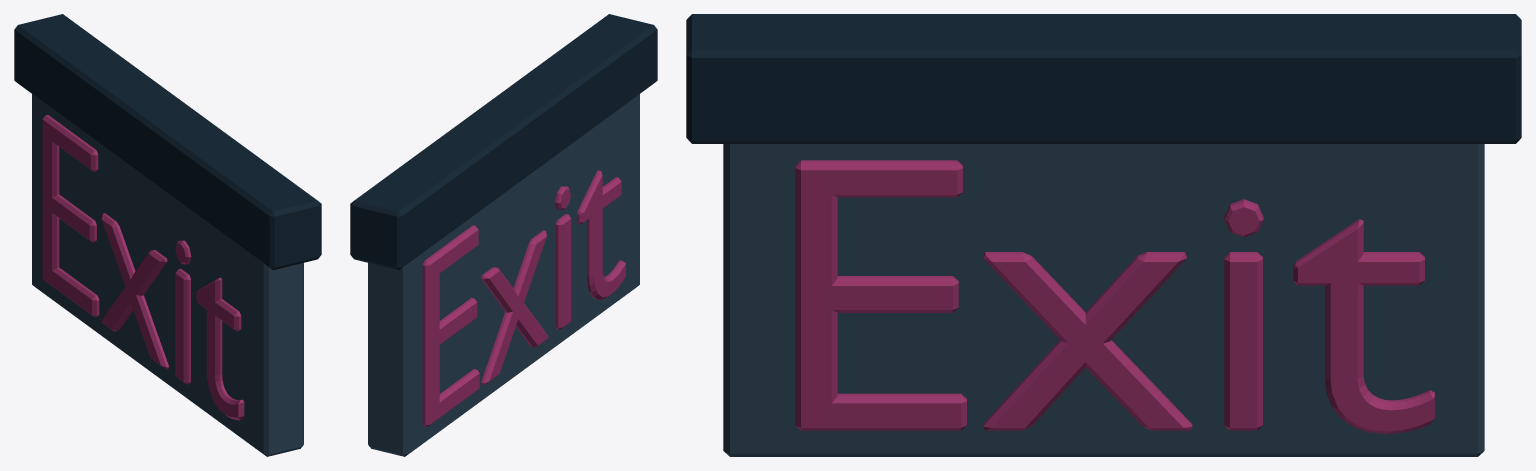
File: SM_ExitLight.fbx
The picture shows the model from 3 angles, left to right: view 1: azimuth 30°, elevation 25°; view 2: azimuth 150°, elevation 25°; view 3: azimuth 270°, elevation 25°; orthographic projection. The views are drawn at different scales.
Visible parts, largest first — view 1: Cube.035; view 2: Cube.035; view 3: Cube.035.
Part boxes in pixels (left/top/right/bottom): Cube.035: left=14, top=14, right=321, bottom=456; Cube.035: left=350, top=14, right=657, bottom=456; Cube.035: left=686, top=14, right=1521, bottom=456.
Size of the model in its own units: 58.14 by 6.78 by 31.66.
